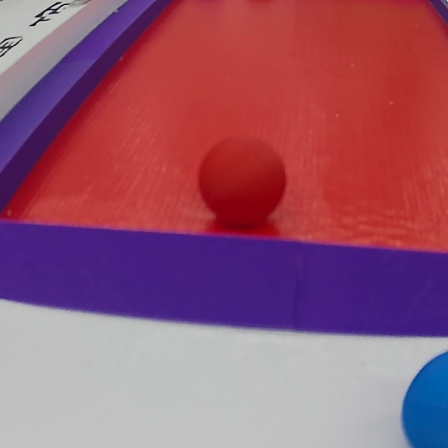blue: (398, 350, 448, 448)
red: (198, 135, 290, 230)
red_aim: (2, 1, 448, 343)
